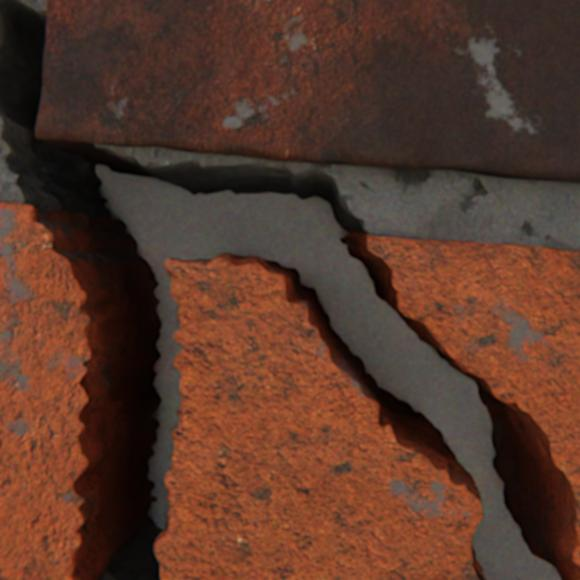brick: (36, 0, 579, 182)
broken_brick: (154, 257, 482, 579), (354, 231, 579, 579), (0, 203, 95, 579)
crack: (0, 0, 577, 579)
